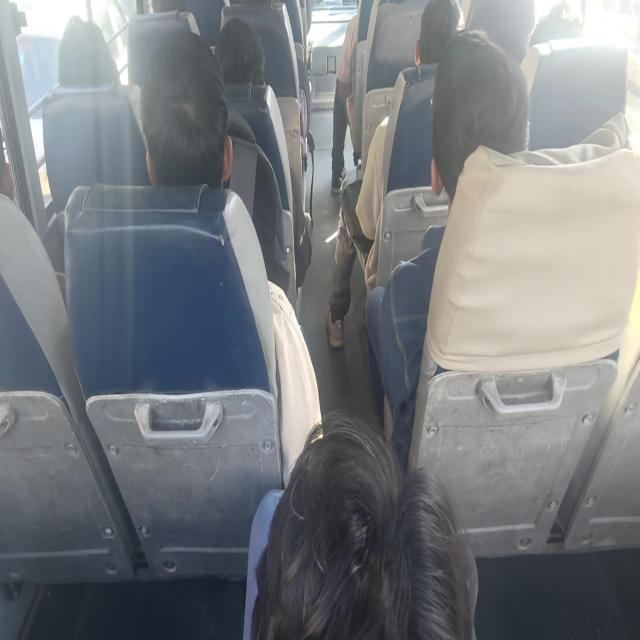person: (138, 28, 322, 485), (363, 27, 530, 469), (243, 410, 479, 638), (324, 0, 464, 349), (139, 30, 233, 188), (330, 8, 360, 194), (56, 15, 120, 88), (216, 16, 266, 85), (414, 0, 464, 65)
